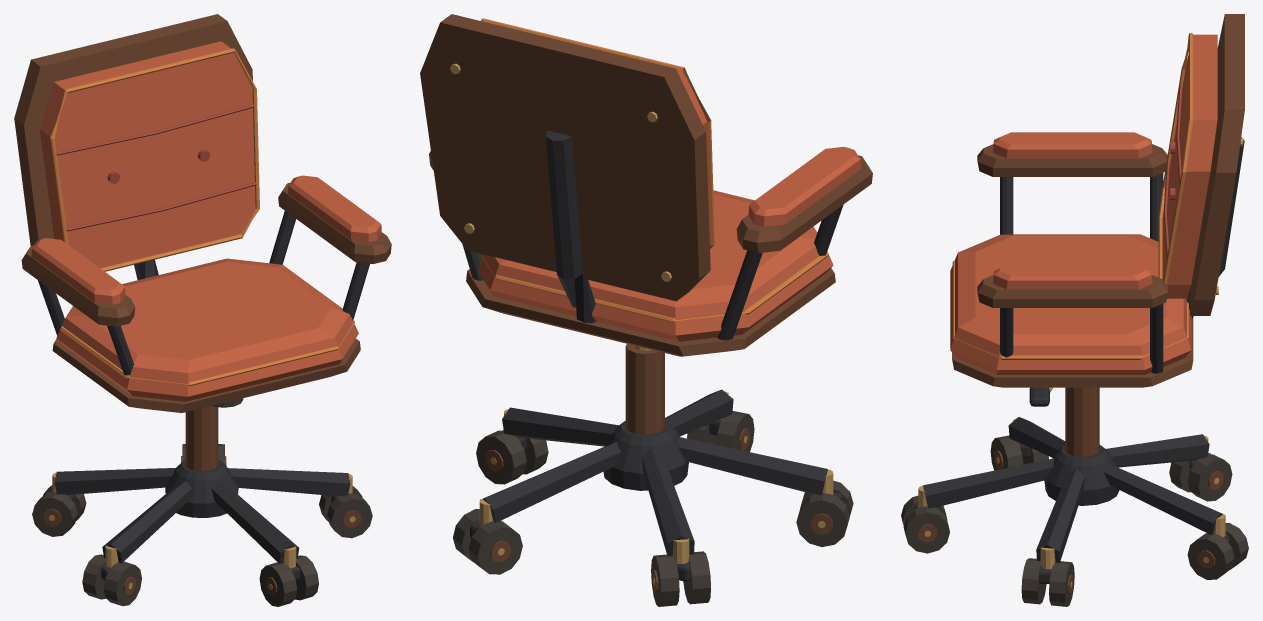
Rendered from 001_swivel_desk_chair_v01.glb.
3 views of the same model, side by side, from view 1: azimuth 30°, elevation 25°; view 2: azimuth 150°, elevation 25°; view 3: azimuth 270°, elevation 25° (orthographic). The views are drawn at different scales.
Parts seen in each view (by area): view 1: 001 upholstered back cushion, 001 terracotta upholstered seat, 001 sculpted walnut back shell, 001 bent plywood seat shell, 001 back cushion perimeter piping, 001 padded armrest -1, 001 padded armrest 1, 001 swept base spoke 00, 001 swept base spoke 03, 001 walnut armrest 1, 001 walnut armrest -1, 001 swept base spoke 02 (+16 smaller); view 2: 001 sculpted walnut back shell, 001 terracotta upholstered seat, 001 bent plywood seat shell, 001 curved back support, 001 padded armrest -1, 001 swept base spoke 02, 001 swept base spoke 04, 001 walnut armrest -1, 001 pneumatic lower sleeve, 001 five-spoke center hub, 001 swept base spoke 00, 001 swept base spoke 03 (+14 smaller); view 3: 001 terracotta upholstered seat, 001 upholstered back cushion, 001 sculpted walnut back shell, 001 padded armrest -1, 001 padded armrest 1, 001 walnut armrest 1, 001 walnut armrest -1, 001 bent plywood seat shell, 001 swept base spoke 01, 001 swept base spoke 04, 001 five-spoke center hub, 001 pneumatic lower sleeve (+18 smaller).
Part boxes in pixels (x1=…): 001 upholstered back cushion: x1=39, y1=41, x2=255, y2=268; 001 terracotta upholstered seat: x1=56, y1=258, x2=358, y2=401; 001 sculpted walnut back shell: x1=14, y1=14, x2=252, y2=245; 001 bent plywood seat shell: x1=52, y1=338, x2=360, y2=412; 001 back cushion perimeter piping: x1=50, y1=48, x2=259, y2=271; 001 padded armrest -1: x1=31, y1=238, x2=125, y2=304; 001 padded armrest 1: x1=288, y1=175, x2=381, y2=242; 001 swept base spoke 00: x1=228, y1=468, x2=350, y2=496; 001 swept base spoke 03: x1=54, y1=468, x2=175, y2=494; 001 walnut armrest 1: x1=278, y1=182, x2=391, y2=263; 001 walnut armrest -1: x1=21, y1=245, x2=135, y2=326; 001 swept base spoke 02: x1=102, y1=481, x2=191, y2=563; 001 sculpted walnut back shell: x1=420, y1=14, x2=710, y2=301; 001 terracotta upholstered seat: x1=478, y1=190, x2=833, y2=341; 001 bent plywood seat shell: x1=466, y1=268, x2=835, y2=356; 001 curved back support: x1=545, y1=130, x2=596, y2=332; 001 padded armrest -1: x1=748, y1=146, x2=860, y2=226; 001 swept base spoke 02: x1=678, y1=436, x2=827, y2=495; 001 swept base spoke 04: x1=480, y1=441, x2=620, y2=522; 001 walnut armrest -1: x1=736, y1=155, x2=872, y2=252; 001 pneumatic lower sleeve: x1=625, y1=344, x2=664, y2=434; 001 five-spoke center hub: x1=603, y1=421, x2=688, y2=490; 001 swept base spoke 00: x1=502, y1=407, x2=618, y2=446; 001 swept base spoke 03: x1=641, y1=448, x2=694, y2=556; 001 terracotta upholstered seat: x1=950, y1=234, x2=1191, y2=374; 001 upholstered back cushion: x1=1162, y1=34, x2=1217, y2=298; 001 sculpted walnut back shell: x1=1190, y1=14, x2=1244, y2=315; 001 padded armrest -1: x1=993, y1=132, x2=1152, y2=158; 001 padded armrest 1: x1=993, y1=263, x2=1152, y2=289; 001 walnut armrest 1: x1=977, y1=275, x2=1168, y2=307; 001 walnut armrest -1: x1=977, y1=144, x2=1167, y2=176; 001 bent plywood seat shell: x1=952, y1=317, x2=1193, y2=387; 001 swept base spoke 01: x1=923, y1=458, x2=1054, y2=508; 001 swept base spoke 04: x1=1103, y1=463, x2=1225, y2=534; 001 five-spoke center hub: x1=1044, y1=445, x2=1119, y2=505; 001 pneumatic lower sleeve: x1=1065, y1=387, x2=1099, y2=456.
Size of the model in its own units: 0.9203 by 1.35 by 0.8938.
